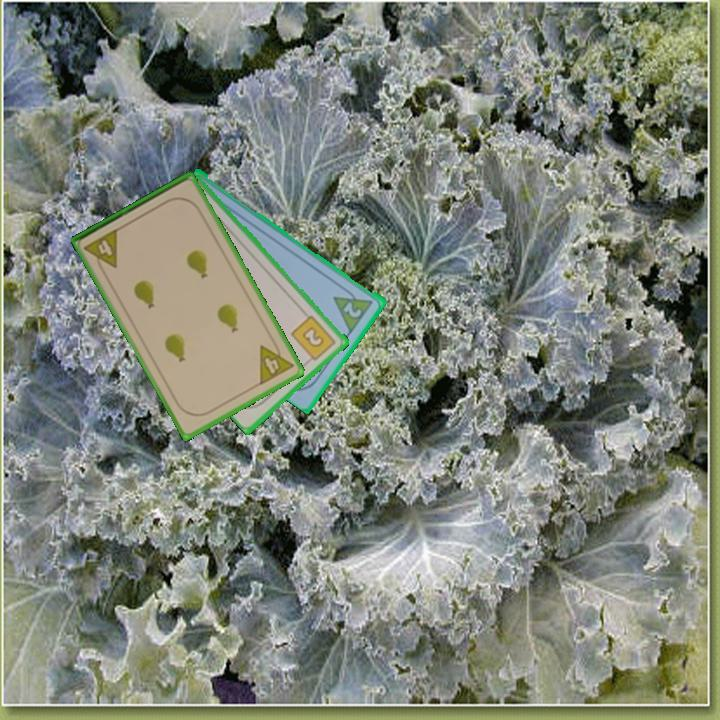2b: (288, 312, 339, 366)
2p: (340, 298, 365, 321)
4p: (256, 335, 296, 388), (81, 225, 121, 276)
